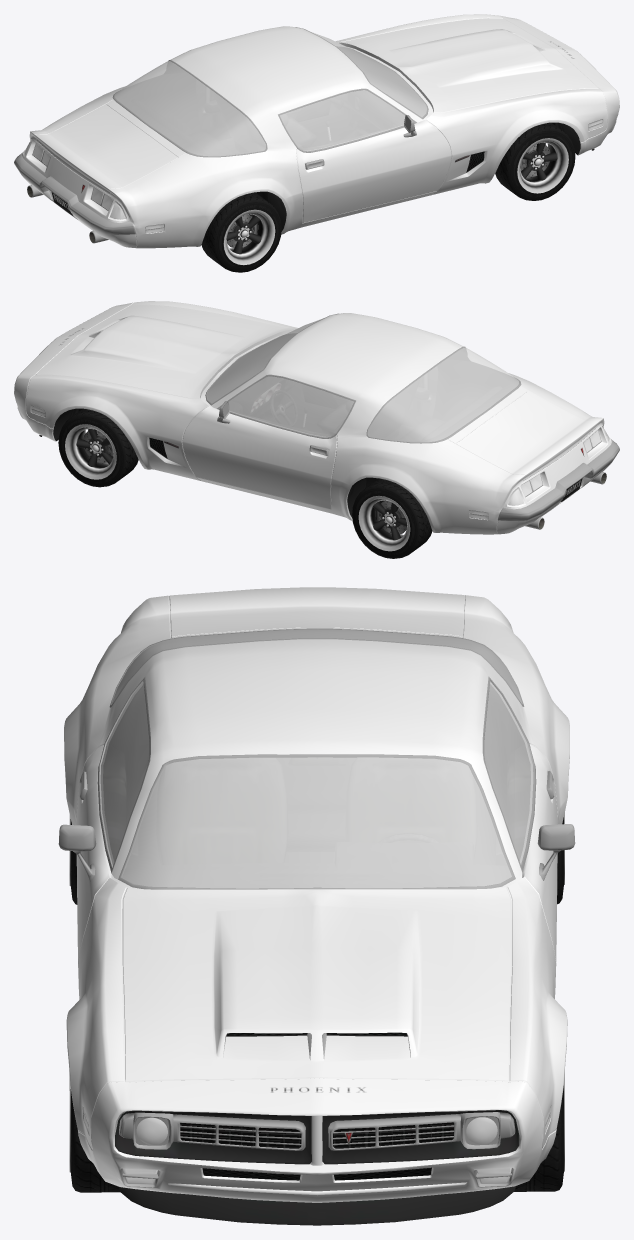
File: phoenix.glb
3 renders of one model, top to bottom at view 1: azimuth 30°, elevation 25°; view 2: azimuth 150°, elevation 25°; view 3: azimuth 270°, elevation 25°, orthographic. The views are drawn at different scales.
Parts seen in each view (by area): view 1: body, spin_RR, spin_FR; view 2: body, spin_RL, spin_FL; view 3: body, spin_FR, spin_FL.
Part boxes in pixels (x1,y1,x2,y2): body: (14, 14, 619, 248); spin_RR: (201, 192, 281, 272); spin_FR: (495, 122, 575, 200); body: (14, 301, 619, 534); spin_RL: (352, 478, 432, 558); spin_FL: (58, 408, 138, 487); body: (58, 587, 575, 1225); spin_FR: (69, 1072, 119, 1192); spin_FL: (514, 1071, 564, 1191).
Size of the model in its own units: 5.05 by 1.37 by 2.16.
Materials: 8 (5 with a texture image).
